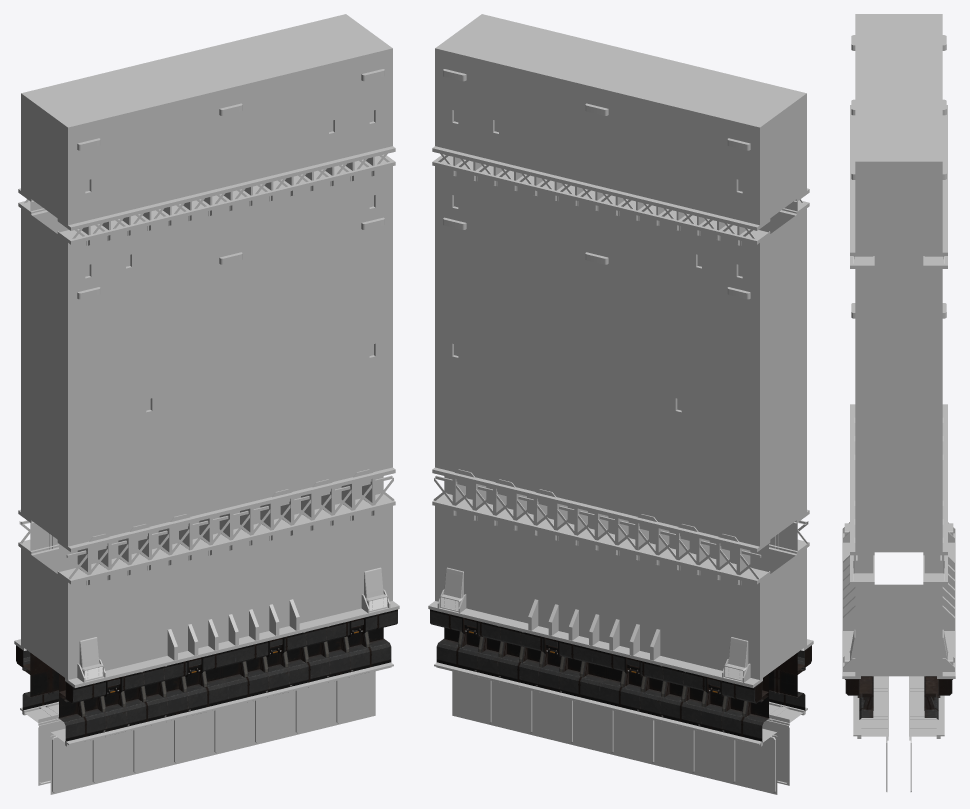
The model's file is Wall_Large_08.fbx.
3 views of the same model, side by side, from view 1: azimuth 30°, elevation 25°; view 2: azimuth 150°, elevation 25°; view 3: azimuth 270°, elevation 25° (orthographic). The views are drawn at different scales.
Parts seen in each view (by area): view 1: Concrete_Blocks, Element1, Element3, Element2, Element4; view 2: Concrete_Blocks, Element1, Element3, Element2, Element4; view 3: Concrete_Blocks, Element1, Element3, Element2, Element4.
Boxes of the visible parts, x1,y1,x2,y2 form: Concrete_Blocks: (21, 14, 392, 679); Element1: (14, 567, 399, 794); Element3: (18, 146, 395, 585); Element2: (16, 609, 397, 741); Element4: (77, 69, 384, 299); Concrete_Blocks: (435, 14, 806, 679); Element1: (428, 567, 813, 794); Element3: (432, 146, 809, 585); Element2: (430, 609, 811, 741); Element4: (443, 69, 750, 299); Concrete_Blocks: (855, 14, 942, 676); Element1: (842, 522, 955, 791); Element3: (850, 105, 947, 585); Element2: (845, 676, 952, 719); Element4: (851, 35, 946, 318).
Size of the model in its own units: 1604 by 3200 by 518.
